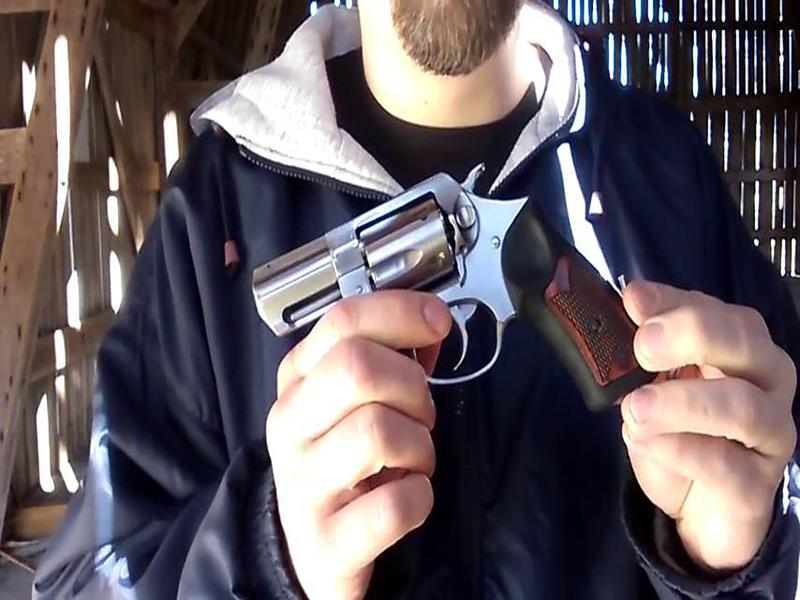Revolver: (244, 164, 660, 411)
